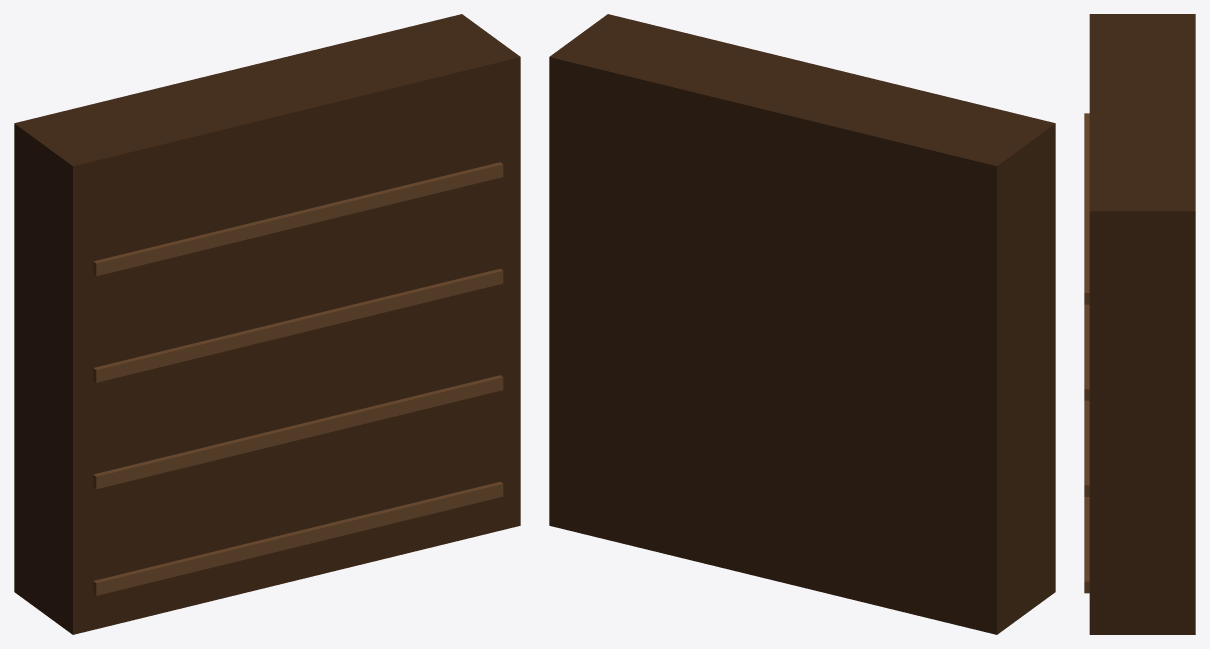
The model's file is bookshelf.glb.
3 renders of one model, left to right at view 1: azimuth 30°, elevation 25°; view 2: azimuth 150°, elevation 25°; view 3: azimuth 270°, elevation 25°, orthographic. The views are drawn at different scales.
Visible parts, largest first — view 1: bookshelf; view 2: bookshelf; view 3: bookshelf.
Boxes of the visible parts, x1=… form: bookshelf: x1=14, y1=14, x2=520, y2=634; bookshelf: x1=549, y1=14, x2=1055, y2=634; bookshelf: x1=1084, y1=14, x2=1195, y2=634.
Size of the model in its own units: 2.2 by 2.2 by 0.525.
